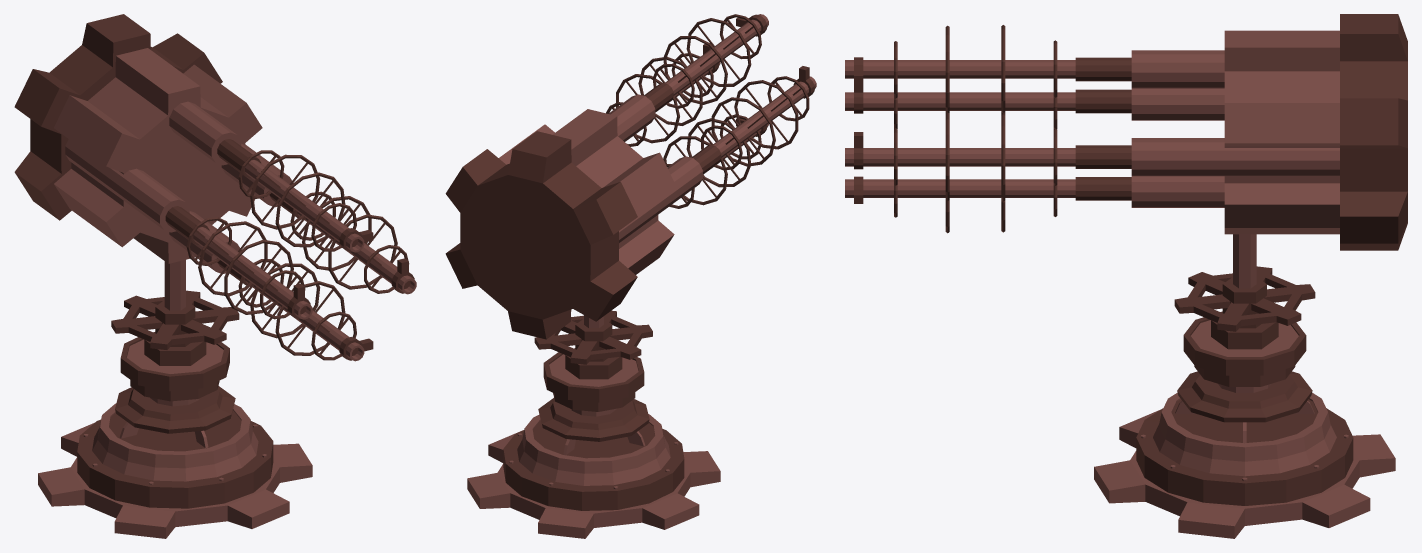
File: laser_machine_gun.glb
The picture shows the model from 3 angles, left to right: view 1: azimuth 30°, elevation 25°; view 2: azimuth 150°, elevation 25°; view 3: azimuth 270°, elevation 25°; orthographic projection. The views are drawn at different scales.
Visible parts, largest first — view 1: _MeshInstance3D_200, _MeshInstance3D_199, _MeshInstance3D_201; view 2: _MeshInstance3D_200, _MeshInstance3D_199, _MeshInstance3D_201; view 3: _MeshInstance3D_200, _MeshInstance3D_199, _MeshInstance3D_201.
Part boxes in pixels (x1=…): _MeshInstance3D_200: x1=14, y1=14, x2=416, y2=361; _MeshInstance3D_199: x1=38, y1=332, x2=312, y2=538; _MeshInstance3D_201: x1=111, y1=260, x2=239, y2=365; _MeshInstance3D_200: x1=445, y1=14, x2=816, y2=339; _MeshInstance3D_199: x1=467, y1=352, x2=720, y2=538; _MeshInstance3D_201: x1=534, y1=310, x2=652, y2=379; _MeshInstance3D_200: x1=845, y1=14, x2=1407, y2=250; _MeshInstance3D_199: x1=1094, y1=311, x2=1395, y2=538; _MeshInstance3D_201: x1=1174, y1=234, x2=1315, y2=349.
Size of the model in its own units: 1.38 by 2.29 by 2.57.
